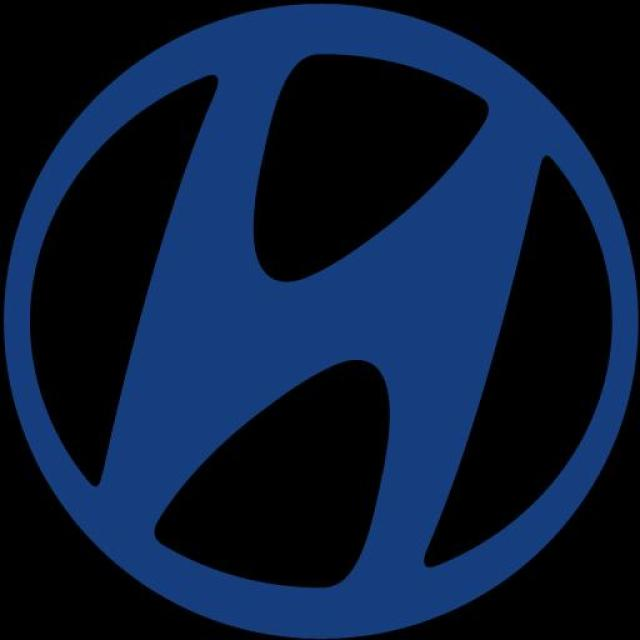hyundai: (0, 16, 640, 620)
